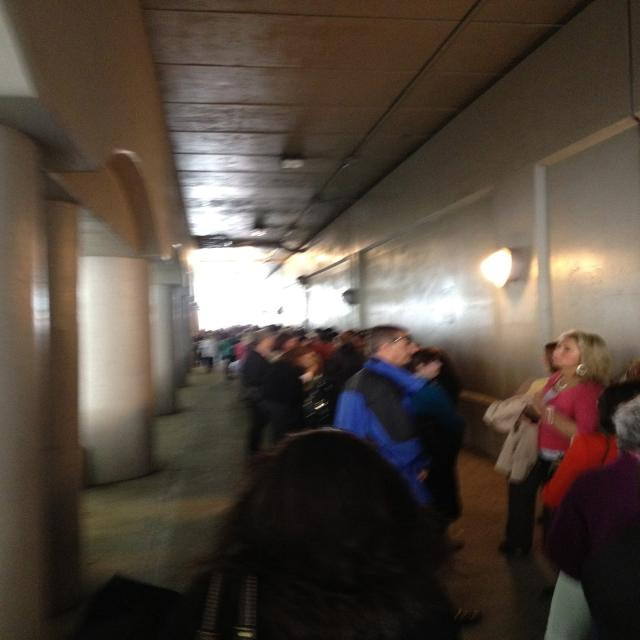body: (77, 431, 480, 640), (480, 327, 615, 598), (186, 313, 467, 429), (541, 392, 640, 640), (332, 324, 436, 512), (501, 339, 564, 563), (541, 380, 640, 512)
